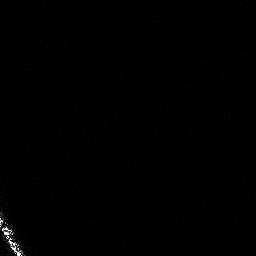ship: (1, 211, 28, 256)
